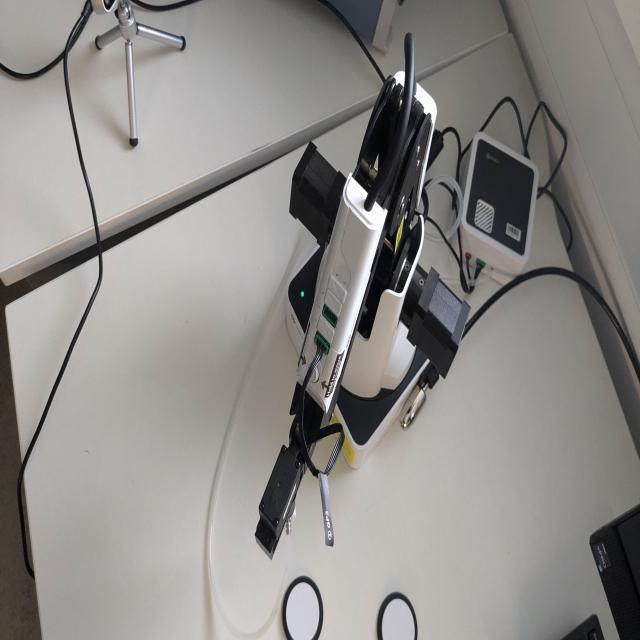Robot-end-effector-HF8z: (253, 442, 309, 562)
